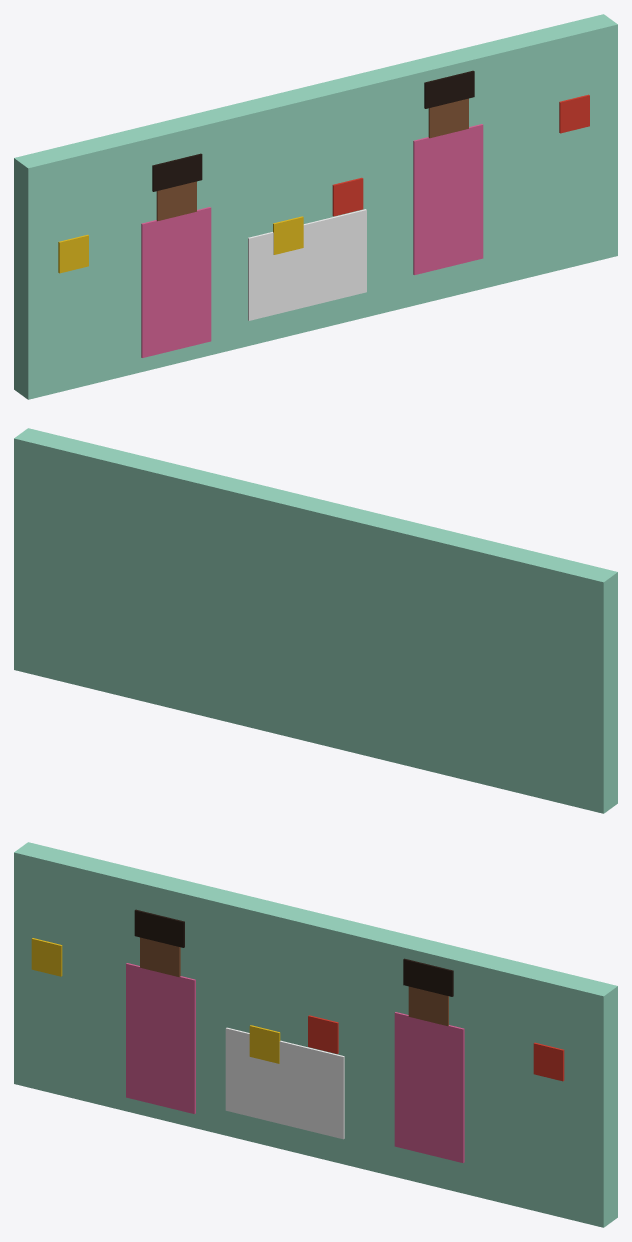
Rendered from sn_mintwomen.glb.
The picture shows the model from 3 angles, top to bottom: view 1: azimuth 30°, elevation 25°; view 2: azimuth 150°, elevation 25°; view 3: azimuth 330°, elevation 25°; orthographic projection.
Parts seen in each view (by area): view 1: sn_mintwomen_lod0; view 2: sn_mintwomen_lod0; view 3: sn_mintwomen_lod0.
Boxes of the visible parts, x1,y1,x2,y2 form: sn_mintwomen_lod0: (14, 14, 617, 399); sn_mintwomen_lod0: (14, 428, 617, 813); sn_mintwomen_lod0: (14, 842, 617, 1227).
Size of what is drawn, in the model's own units: 12 by 4.5 by 0.7398.
